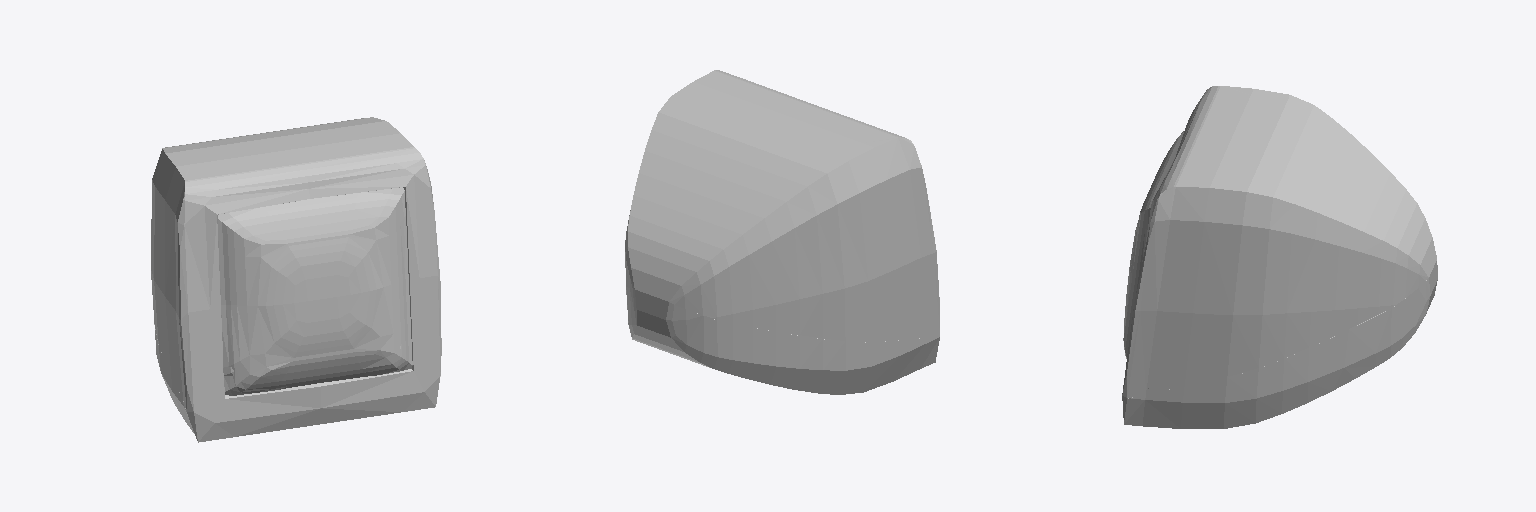
The model's file is fish tank.obj.
3 renders of one model, left to right at view 1: azimuth 30°, elevation 25°; view 2: azimuth 150°, elevation 25°; view 3: azimuth 270°, elevation 25°, orthographic.
Parts seen in each view (by area): view 1: s4studio_mesh_2.001, s4studio_mesh_1.001; view 2: s4studio_mesh_2.001, s4studio_mesh_1.001; view 3: s4studio_mesh_2.001, s4studio_mesh_1.001.
Part boxes in pixels (x1,y1,x2,y2): s4studio_mesh_2.001: (151,117,441,419); s4studio_mesh_1.001: (154,129,440,442); s4studio_mesh_2.001: (625,71,939,341); s4studio_mesh_1.001: (626,70,939,394); s4studio_mesh_2.001: (1122,86,1436,400); s4studio_mesh_1.001: (1123,86,1437,428).
Bounding box in the file's own units: 1.12 × 1.07 × 1.25.